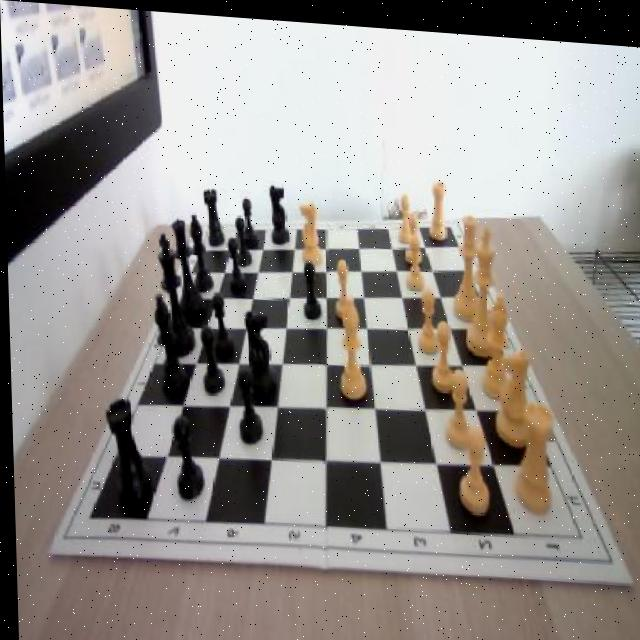bishop: (151, 291, 184, 394), (188, 209, 211, 292)
black-bishop: (155, 228, 194, 356)
black-king: (238, 299, 278, 396), (267, 180, 290, 242)
black-knight: (171, 412, 202, 498), (233, 366, 260, 444), (199, 322, 224, 393), (210, 287, 232, 356), (299, 256, 319, 318), (225, 233, 245, 291), (239, 194, 256, 245), (235, 212, 251, 266)
black-pawn: (170, 214, 204, 322)
black-queen: (103, 394, 152, 504), (202, 186, 222, 244)
black-rook: (475, 286, 514, 393), (336, 298, 364, 397)
white-bishop: (461, 219, 503, 354)
white-king: (491, 339, 533, 443), (295, 194, 322, 261)
white-knight: (454, 420, 489, 512), (440, 359, 473, 445), (427, 312, 456, 390), (415, 283, 440, 351), (332, 256, 353, 316), (404, 229, 425, 287), (395, 187, 414, 238), (402, 206, 421, 257)
white-pawn: (449, 207, 484, 315)
white-queen: (511, 392, 554, 508), (427, 174, 447, 237)
